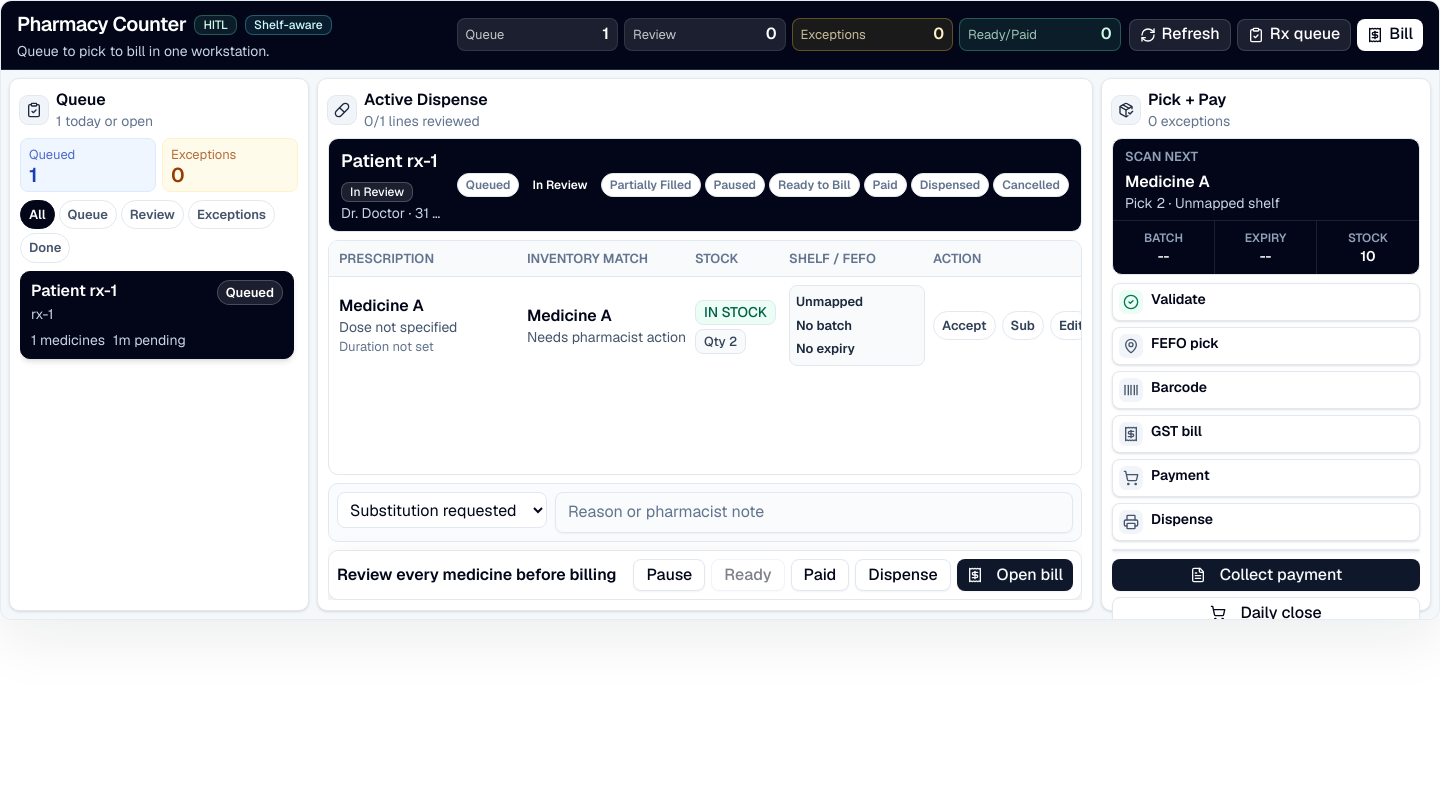
Test case: keeps an unsuccessful review pending and exposes a retryable save error
The width and height of the screenshot is (1440, 810).
Click the button "Accept" at coordinates (964, 326), box left=933, top=311, right=996, bottom=340
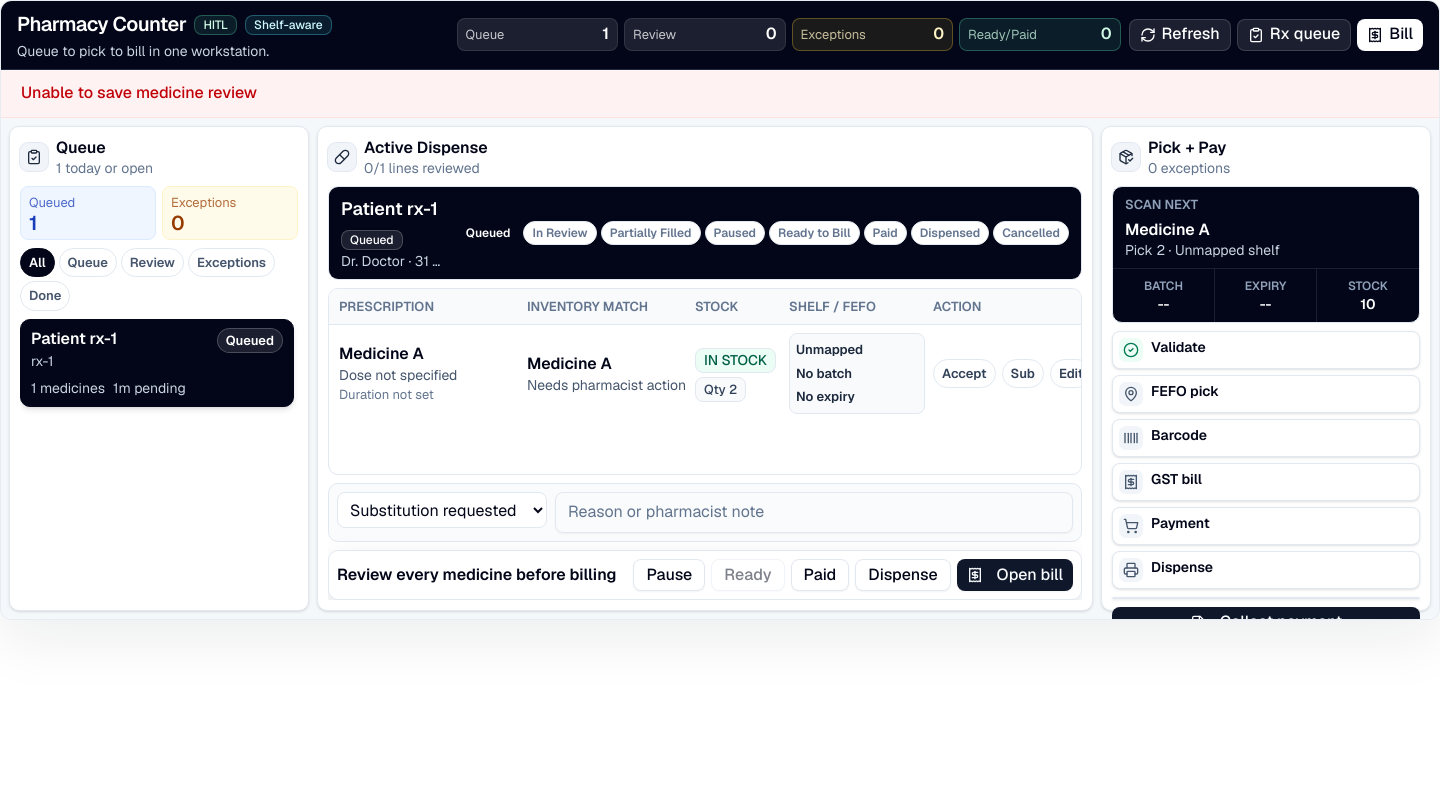
Check: the text "0/1 lines reviewed" is shown, box left=364, top=160, right=488, bottom=178
Check: the message reads "Unable to save medicine review", box left=21, top=82, right=257, bottom=103
